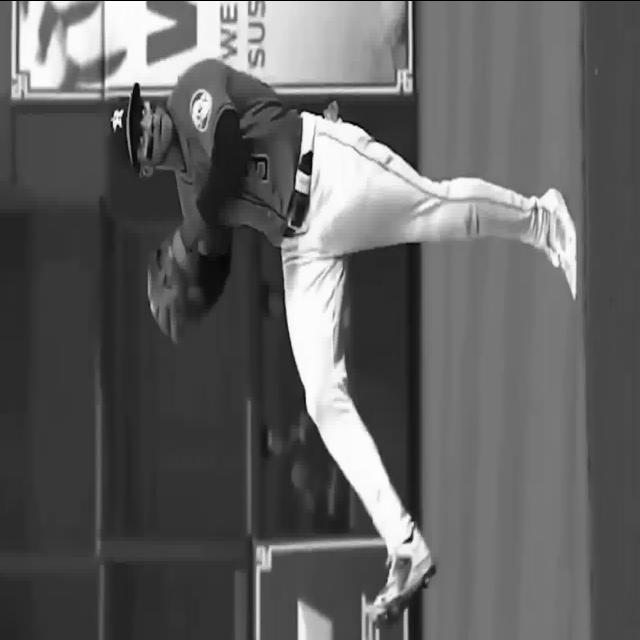baseball_glove: (144, 222, 196, 354)
shoe: (372, 521, 436, 621), (542, 187, 578, 301)
